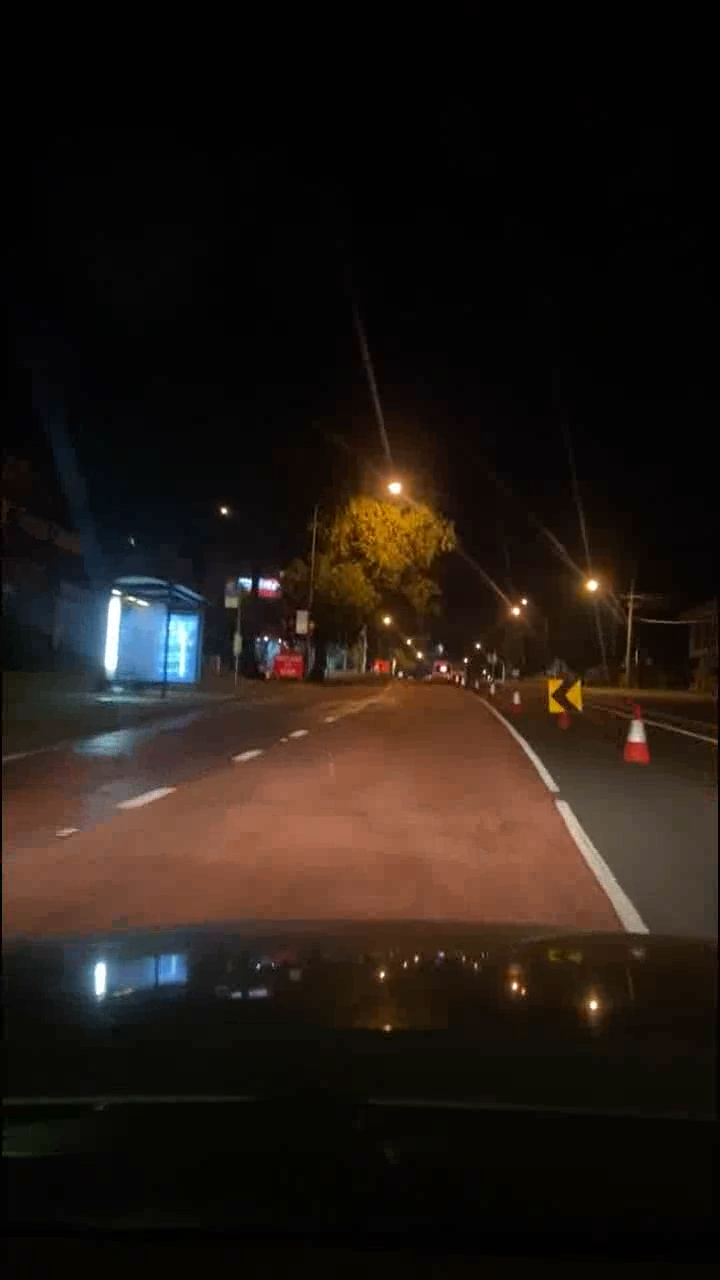prepare to stop board: (270, 648, 310, 679)
road cone: (614, 697, 657, 766)
road works sign board: (541, 677, 581, 719)
